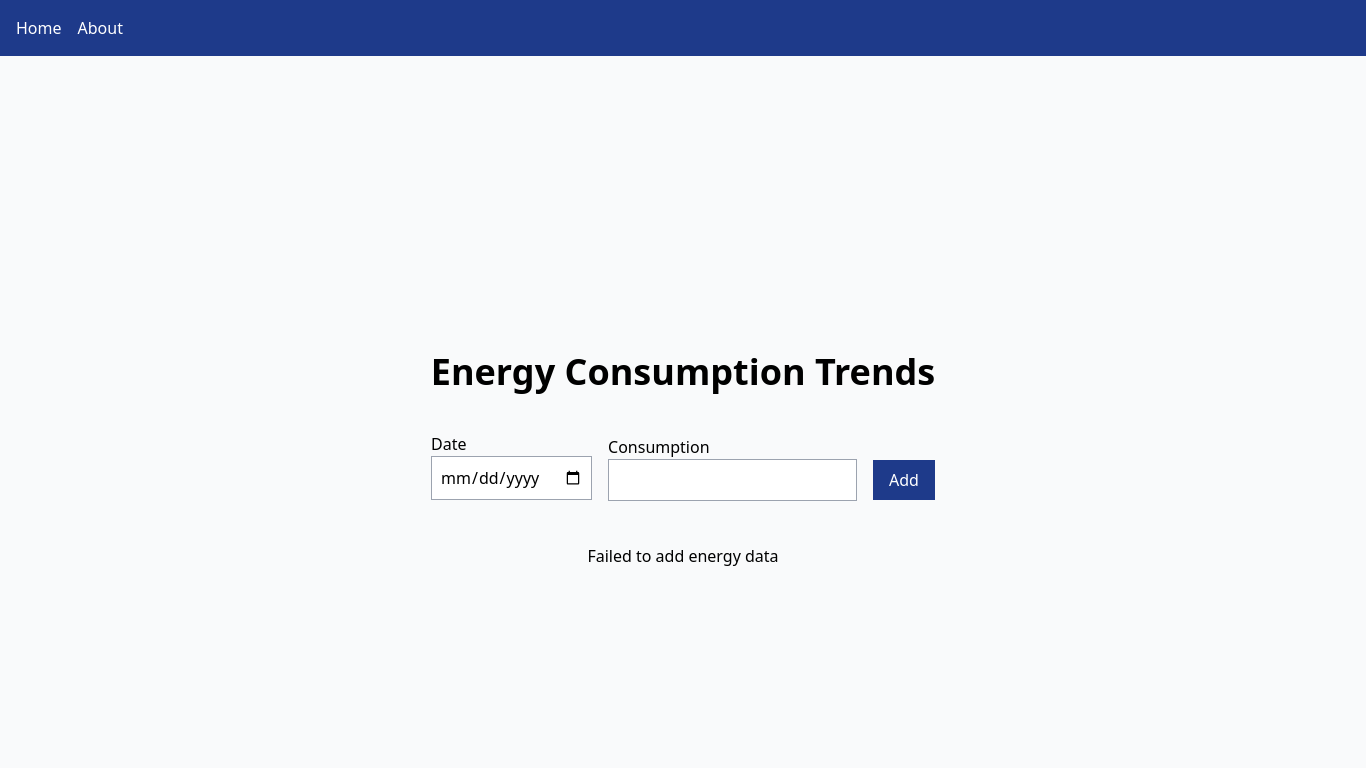
Scenario: Energy Consumption App › navigates to the About page
What coordinates should you click on to do the following:
click the link "About"
I would click on:
 (101, 28)
Its box is [78,17,123,39].
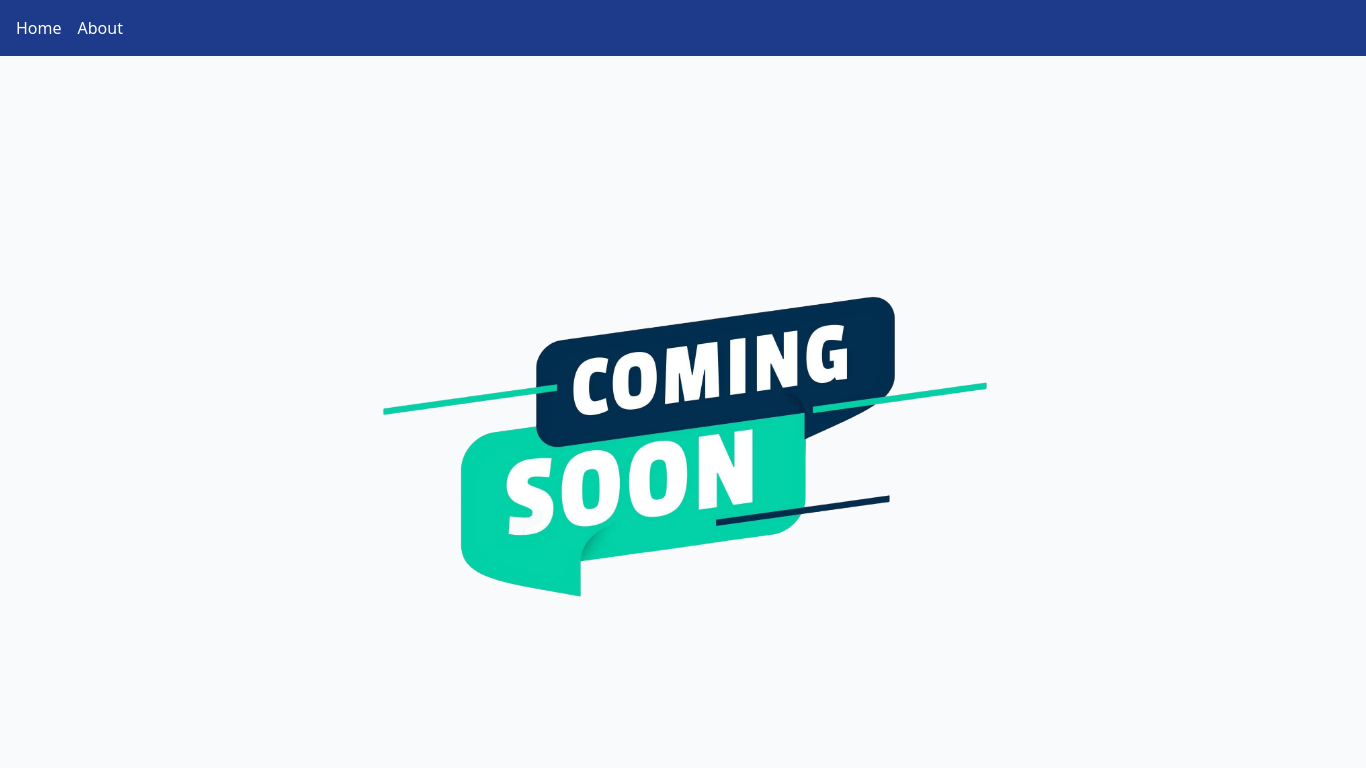
Result: the picture is shown at [347,171,1019,709]
